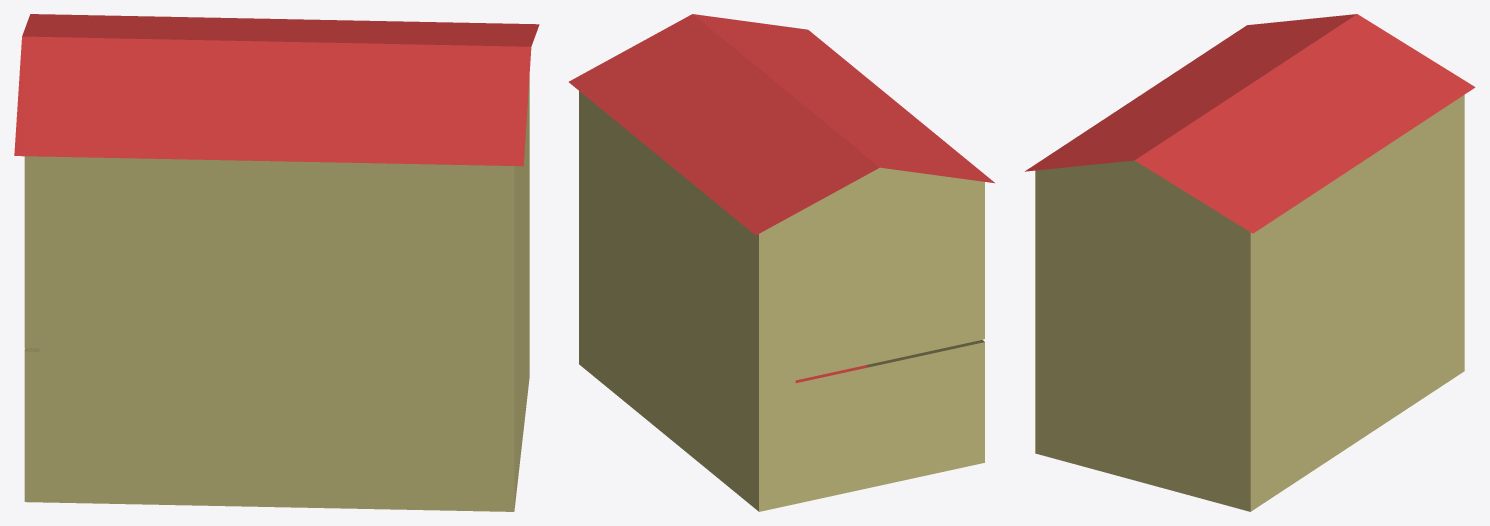
3 renders of one model, left to right at view 1: azimuth 30°, elevation 25°; view 2: azimuth 150°, elevation 25°; view 3: azimuth 270°, elevation 25°, orthographic. The views are drawn at different scales.
Bounding box in the file's own units: 15.62 × 14.29 × 11.31.
